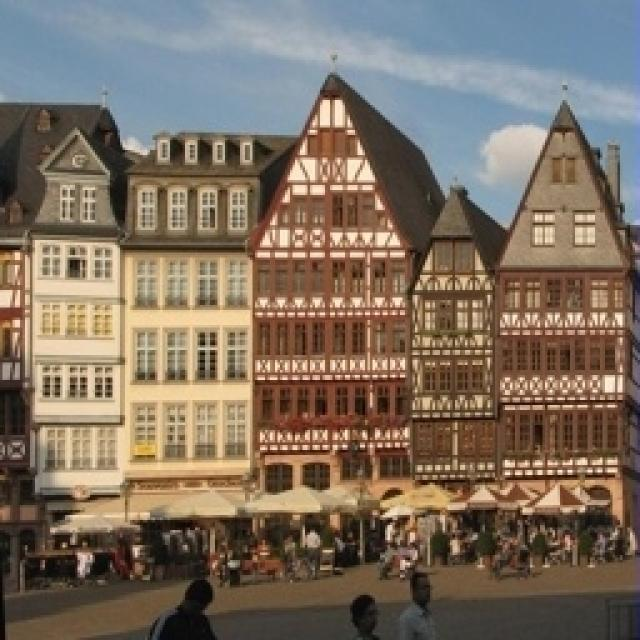building: (257, 60, 640, 557), (125, 113, 250, 525), (0, 102, 115, 530)
